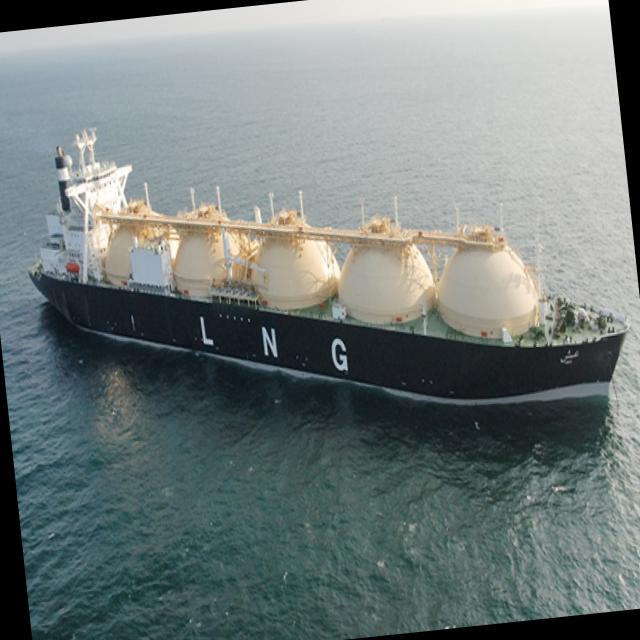boat: (10, 57, 640, 497)
